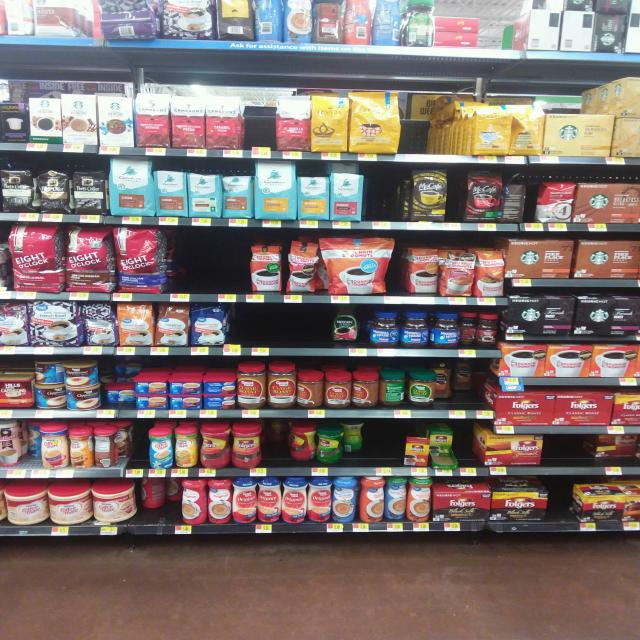unorganised: (436, 366, 483, 407), (138, 480, 180, 525), (288, 420, 318, 467), (373, 1, 403, 47), (200, 423, 230, 469), (314, 425, 346, 468), (412, 247, 439, 297), (345, 1, 375, 45), (595, 433, 640, 462), (501, 173, 527, 223), (330, 308, 361, 345), (93, 426, 119, 470), (295, 370, 323, 409), (344, 421, 370, 462), (351, 372, 379, 408), (20, 421, 41, 467), (379, 373, 406, 408), (34, 362, 64, 387), (460, 311, 479, 348), (106, 366, 135, 388), (430, 435, 451, 460)
